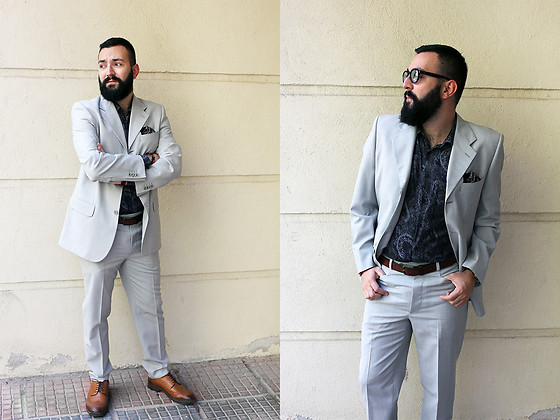F_M_suit jacket: (348, 106, 502, 317), (67, 96, 183, 261)
F_belt: (373, 251, 457, 280), (112, 211, 146, 230)
F_dress pants: (356, 263, 475, 420), (78, 226, 169, 372)
